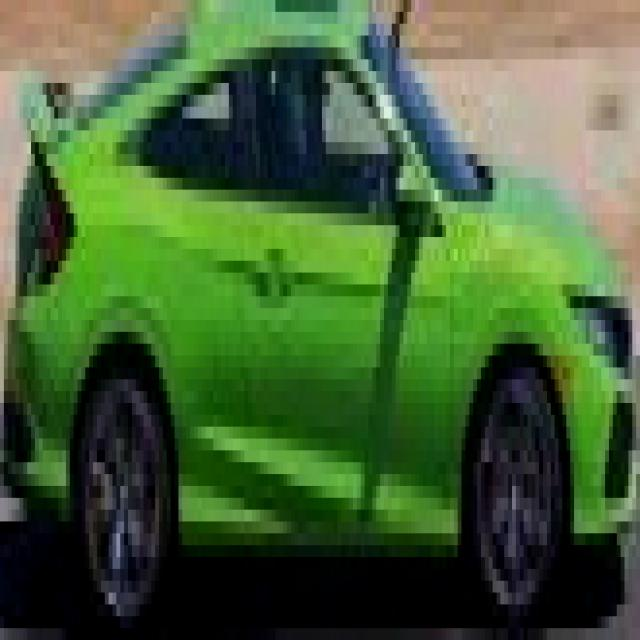green: (5, 0, 634, 626)
